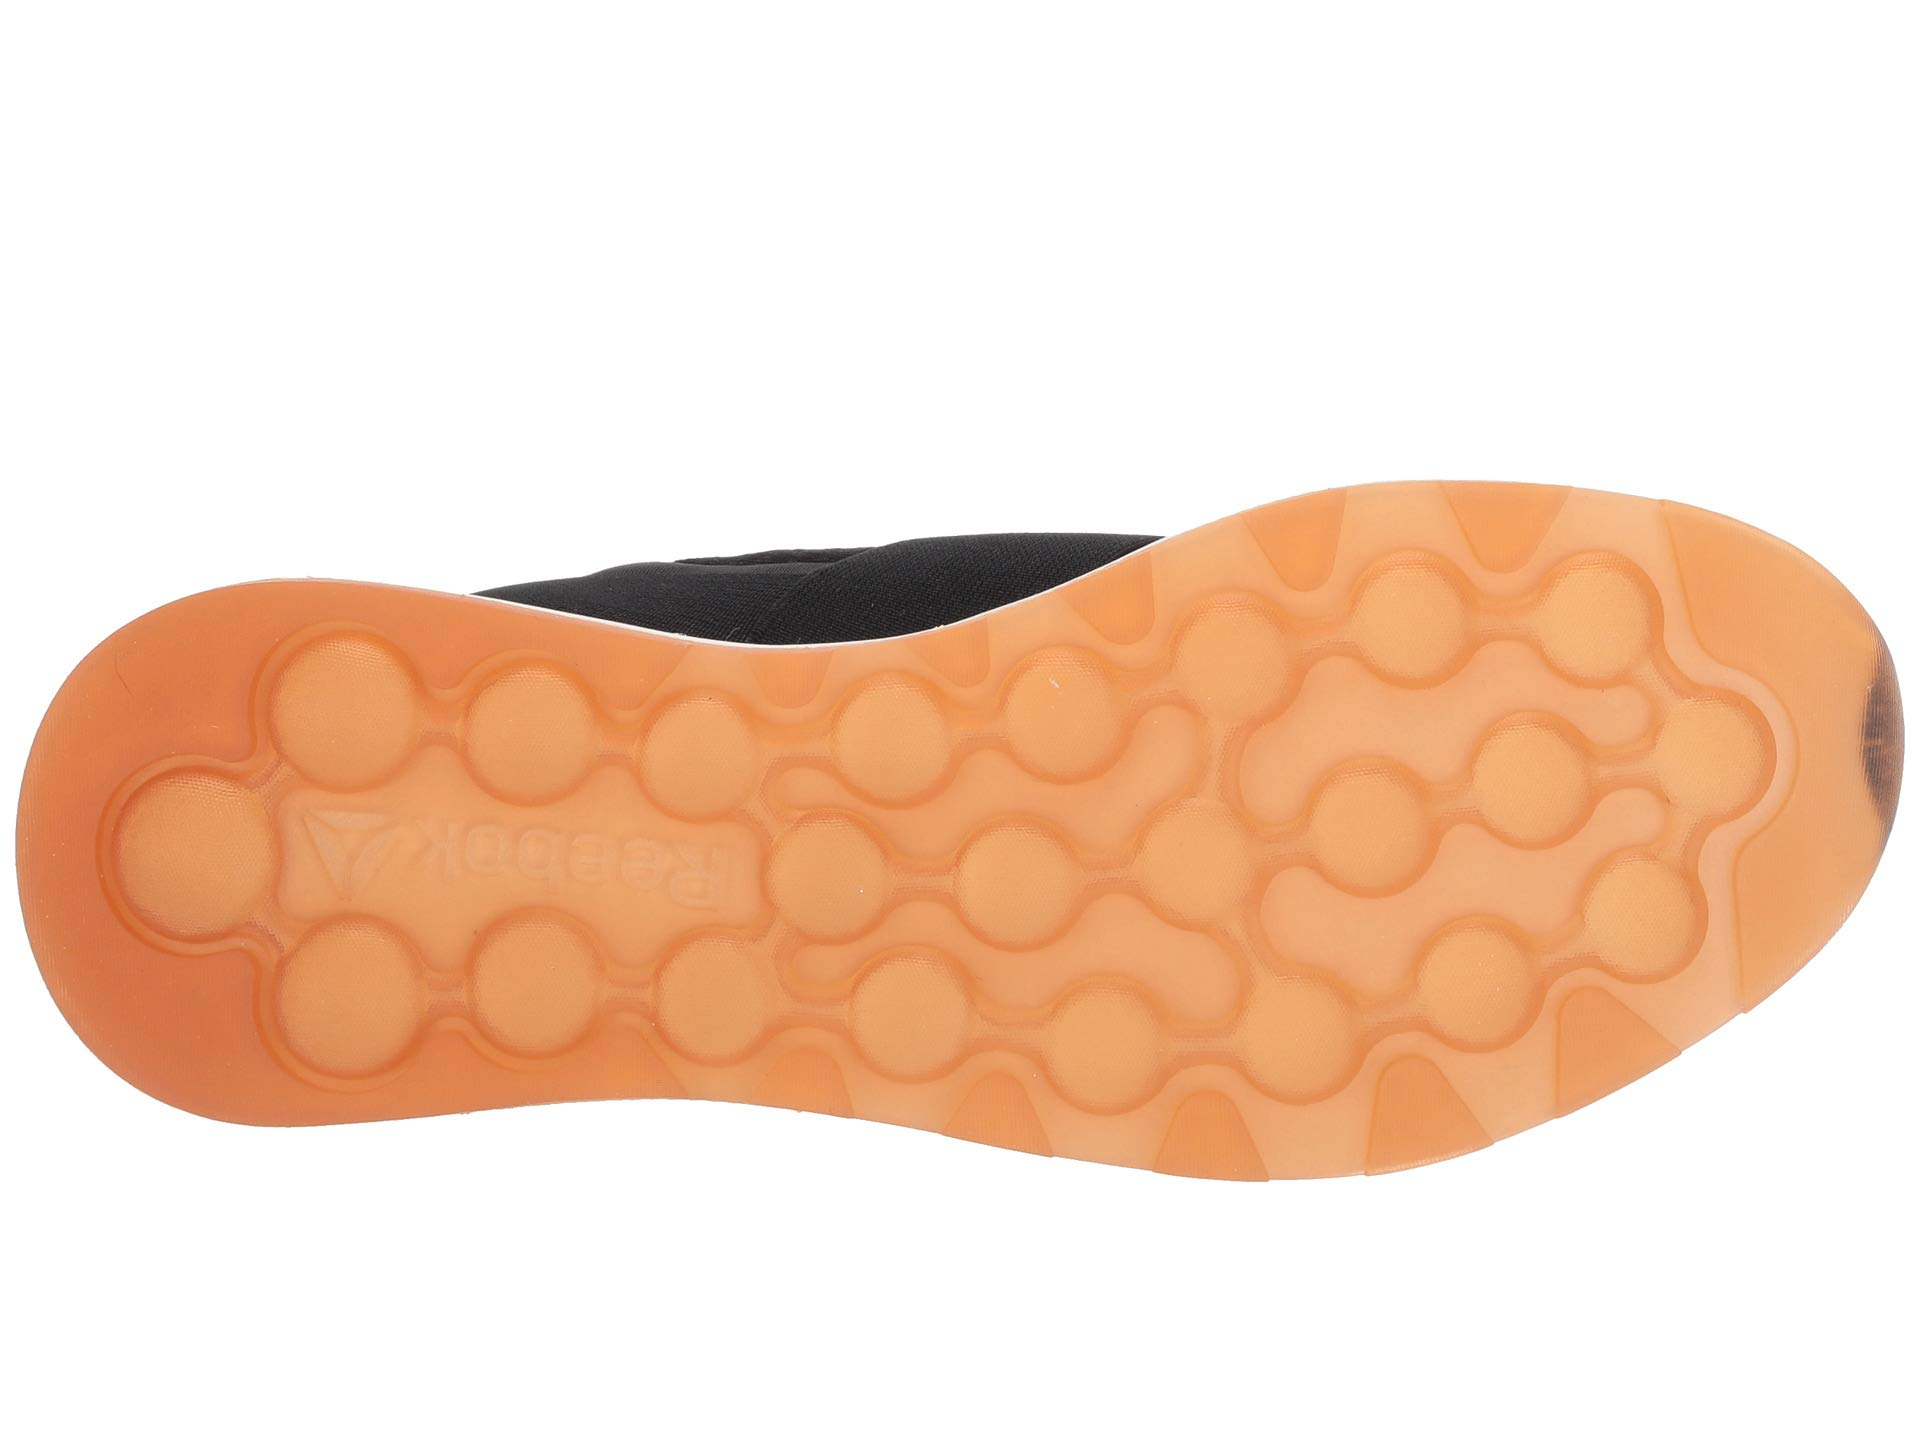circle: (919, 652, 1421, 1169)
